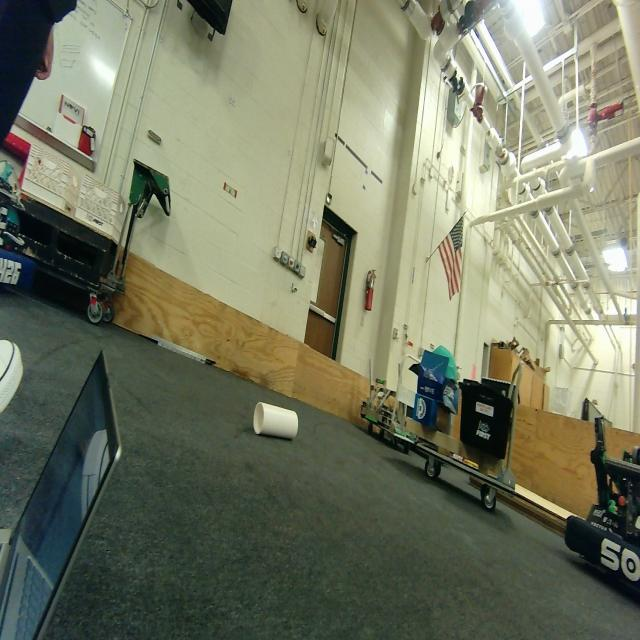coral: (250, 387, 304, 449)
